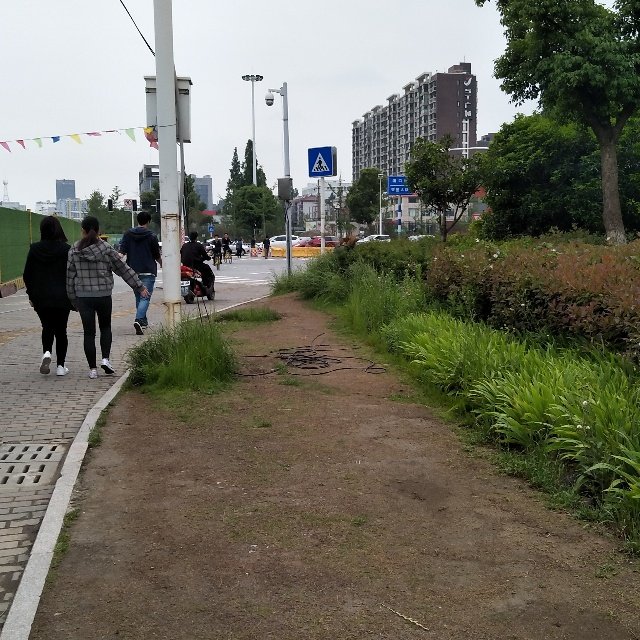crosswalk: (308, 146, 338, 177)
